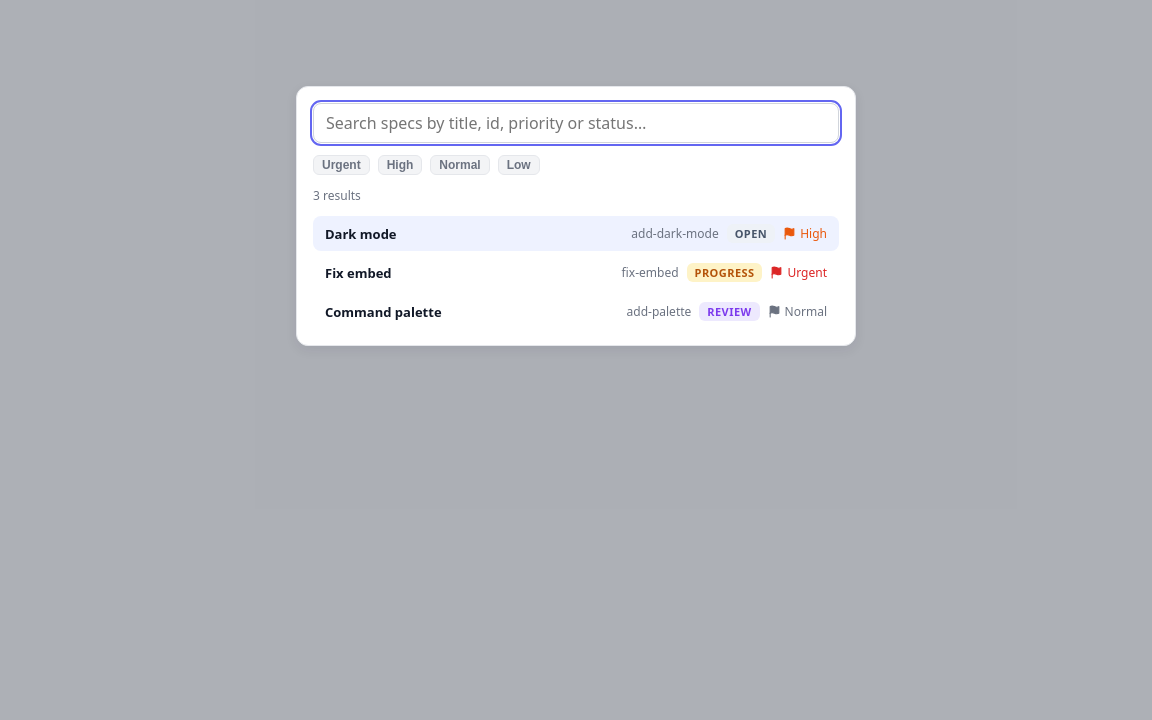
Test: CommandPalette › filters by title, id, priority-as-text and status-as-text, case-insensitively
This screenshot has width=1152, height=720.
In the dropdown: (576, 123) [313,103,839,143], type "DARK"
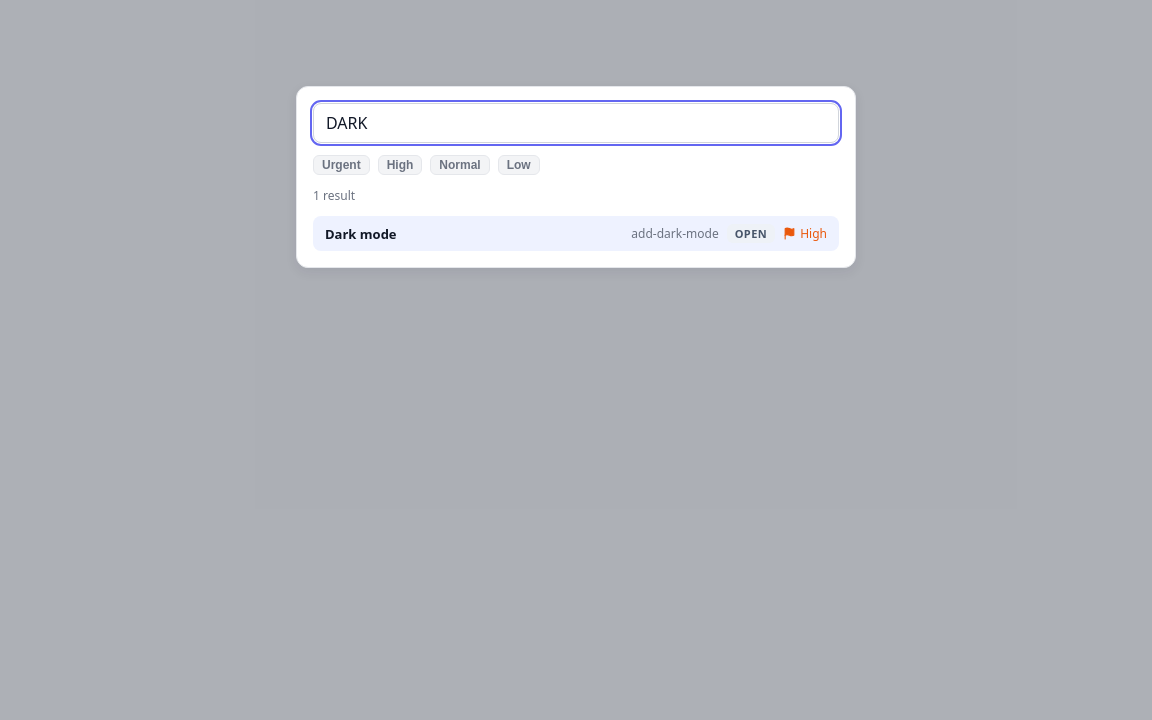
Expected: the number of options is 1, [313,216,839,251]
Expected: the text "add-dark-mode" is shown, [631,225,719,242]
Replace the text in the dropdown with "fix-embed": (576, 123) [313,103,839,143]
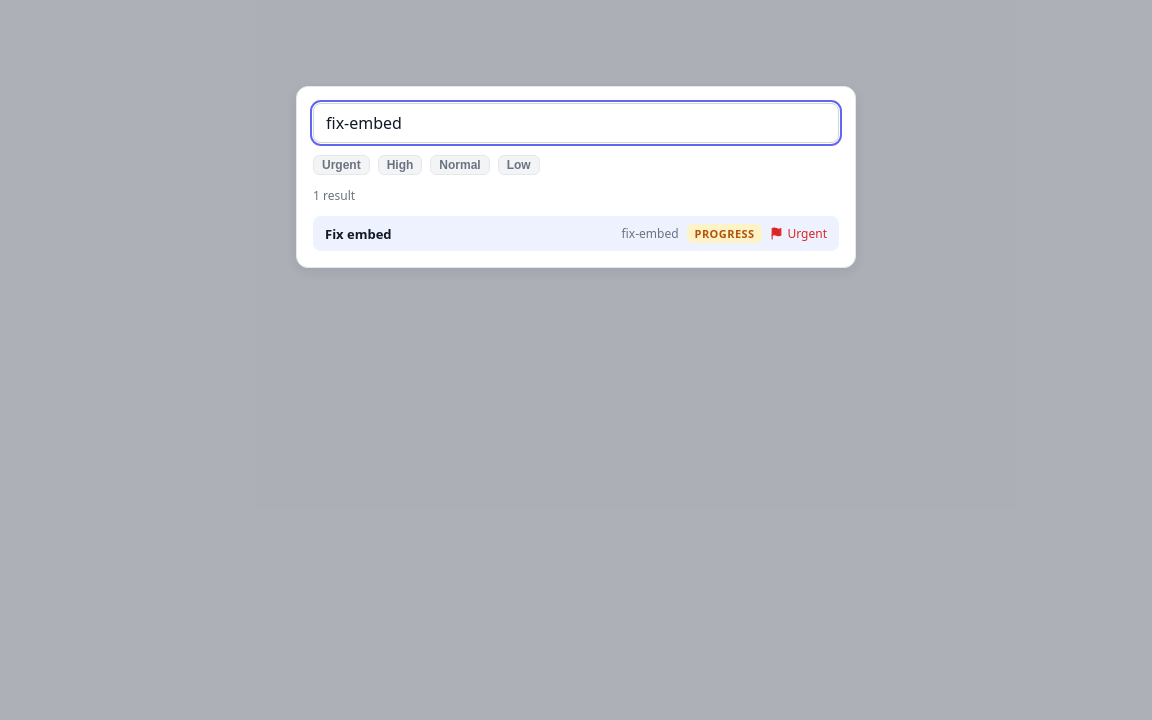
Now the number of options is 1, box [313,216,839,251]
Now the text "Fix embed" is shown, box [325,225,392,243]
Replace the text in the dropdown with "urgent": (576, 123) [313,103,839,143]
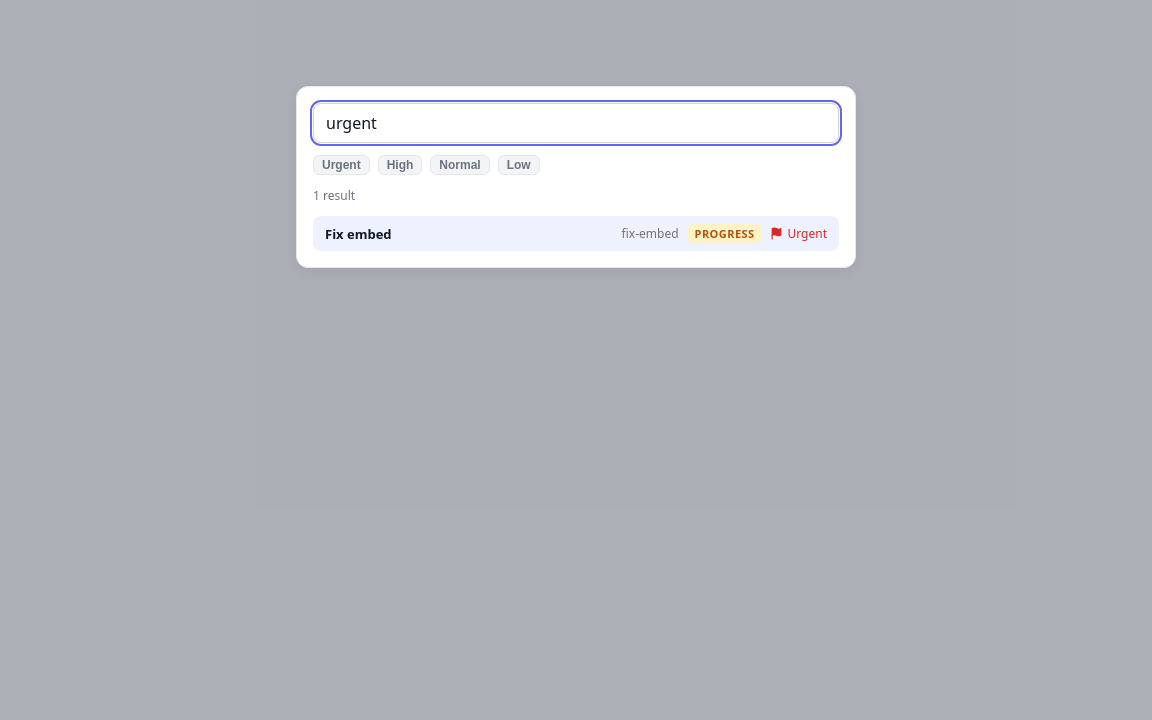
Now the number of options is 1, box [313,216,839,251]
Now the text "Fix embed" is shown, box [325,225,392,243]
Replace the text in the dropdown with "review": (576, 123) [313,103,839,143]
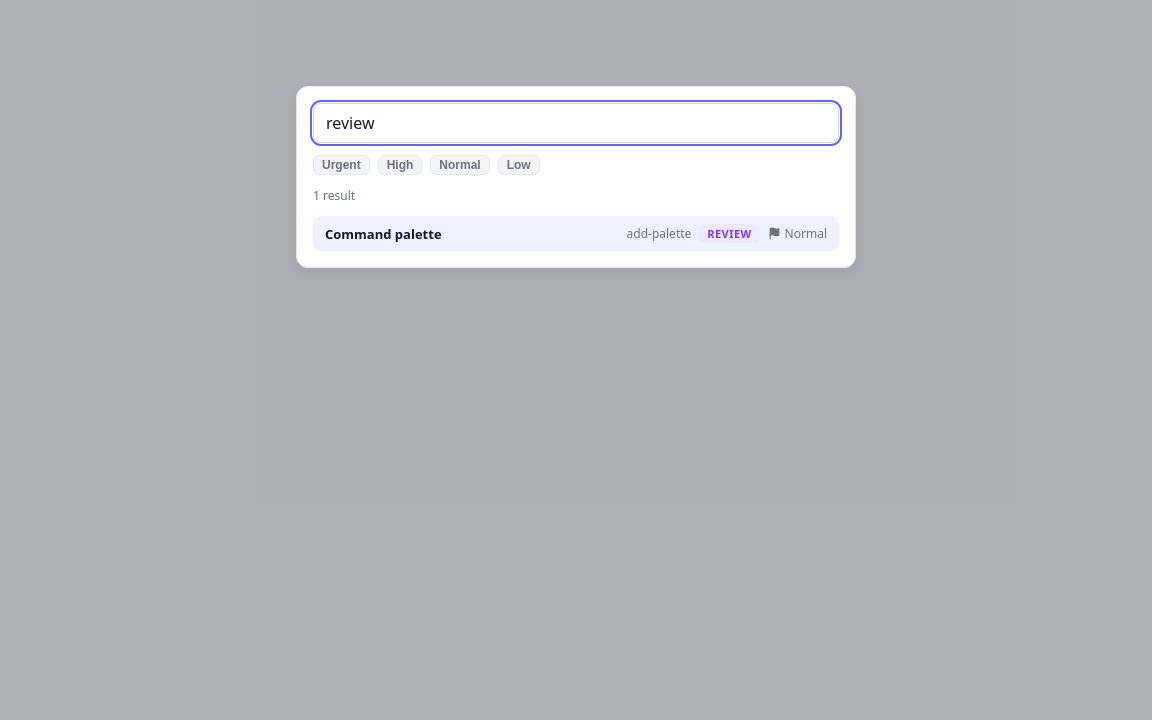
Now the number of options is 1, box [313,216,839,251]
Now the text "Command palette" is shown, box [325,225,442,243]
